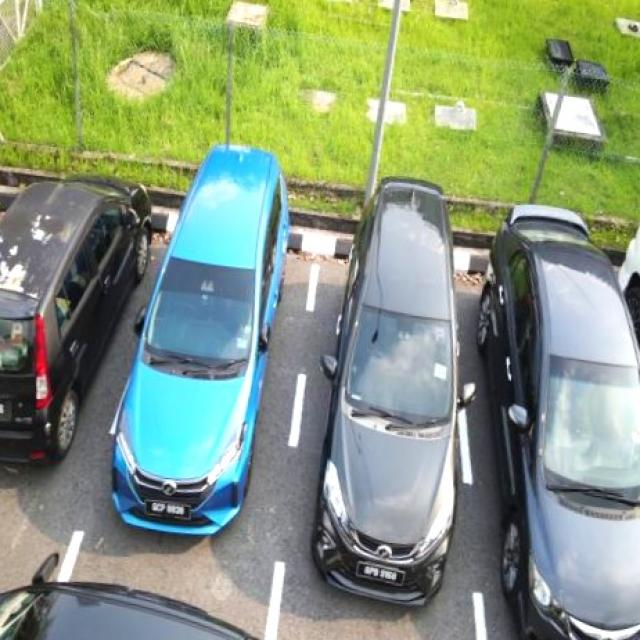Legalparking: (310, 177, 475, 604), (477, 205, 639, 639), (112, 145, 288, 533), (0, 175, 151, 461)
illegalparking: (0, 554, 256, 639)
